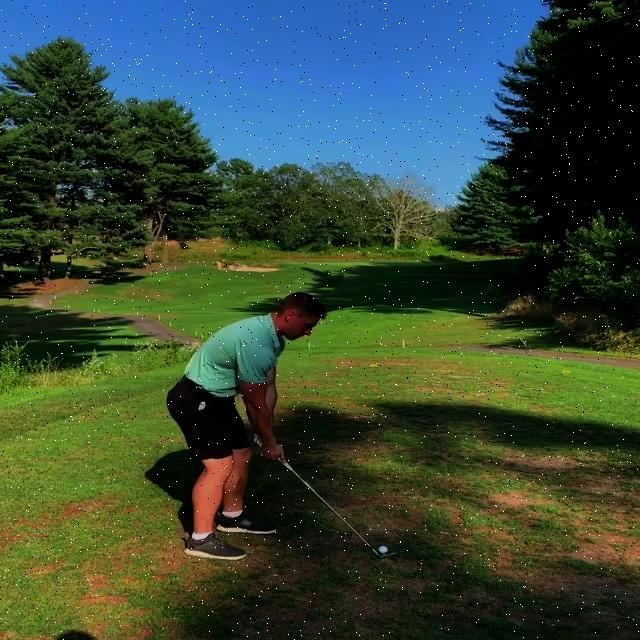ClubHandle: (255, 433, 398, 558)
ClubHead: (381, 552, 398, 557)
GolfBall: (378, 546, 388, 553)
